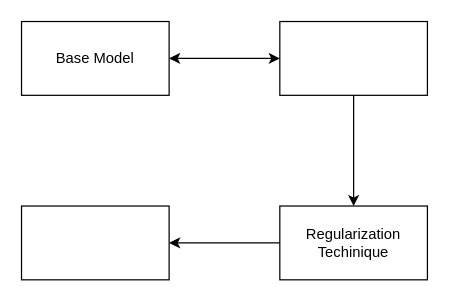
Some shapes in this 449 by 301 pixel diagram are drawn without their labels. The centre of each missing label's shape, as x and y in pixels:
"BatchNormalization" belongs at point (353, 57).
"DropOut" belongs at point (94, 242).
